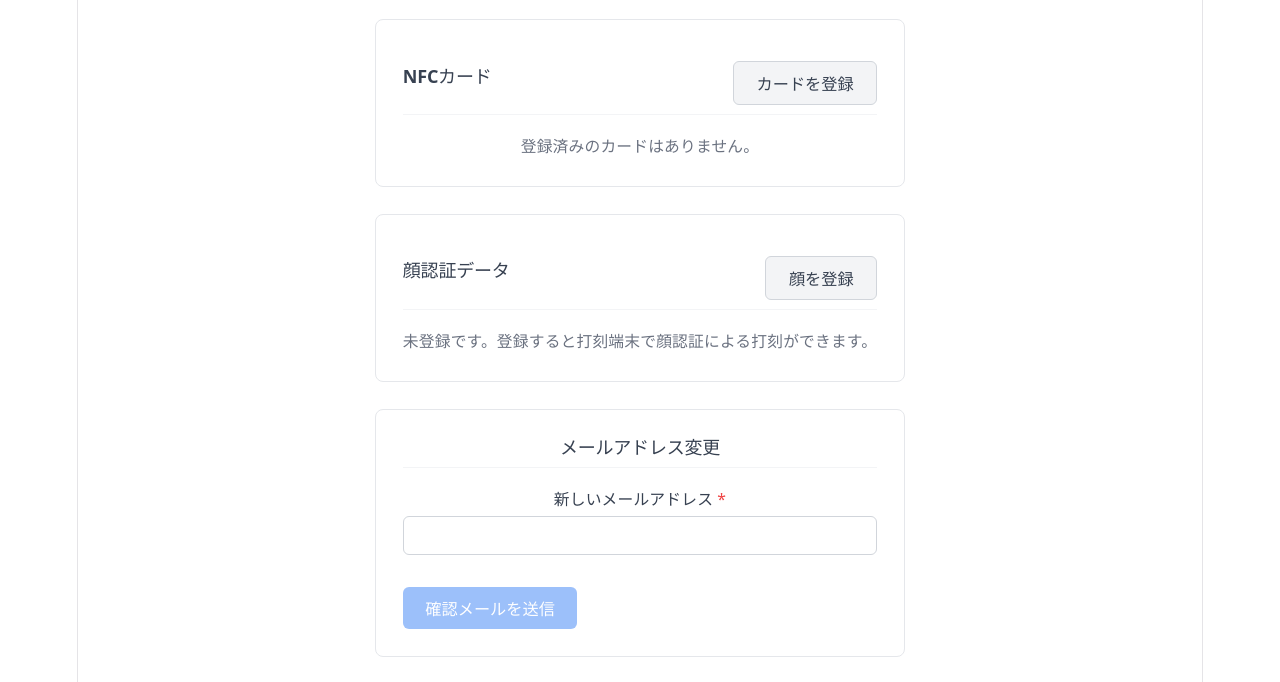
Test: MyProfilePage › メール変更確認メール送信が成功する
The image size is (1280, 682).
(page scrolled)
Type "newemail@example.com" into the field labelled "新しいメールアドレス *" at [640, 536], box [403, 516, 877, 556]
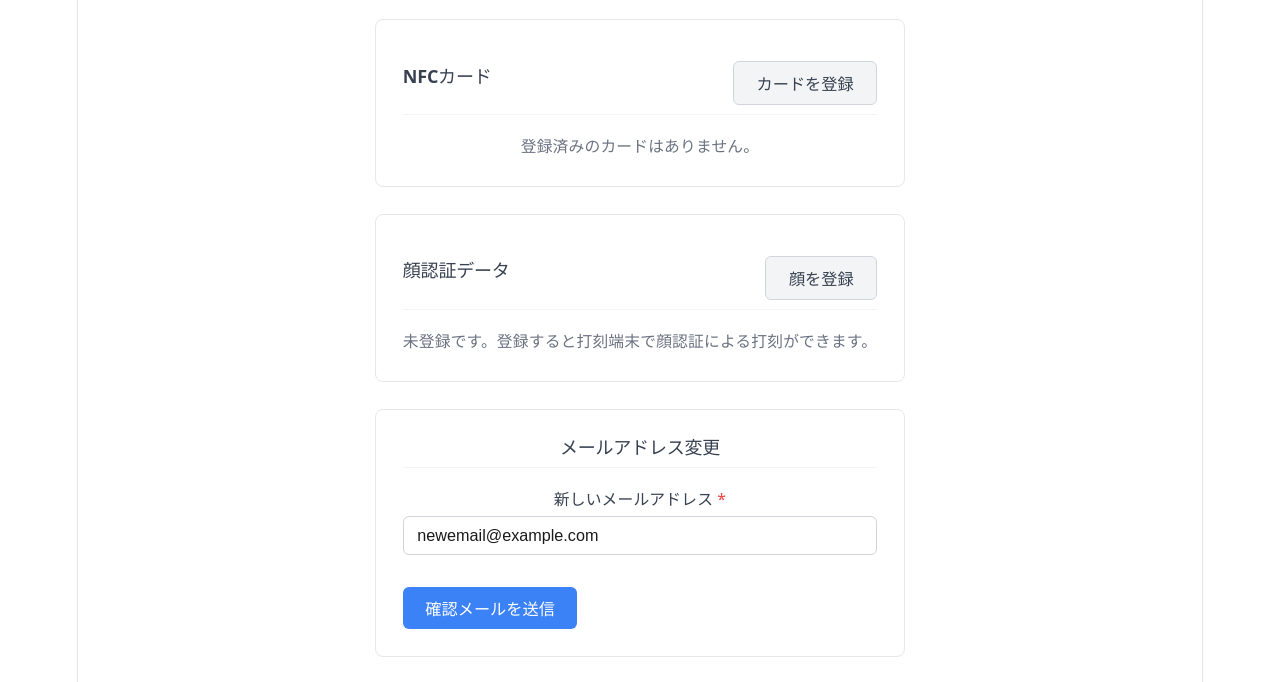
Click the button "確認メールを送信" at [490, 608], box [403, 587, 577, 629]
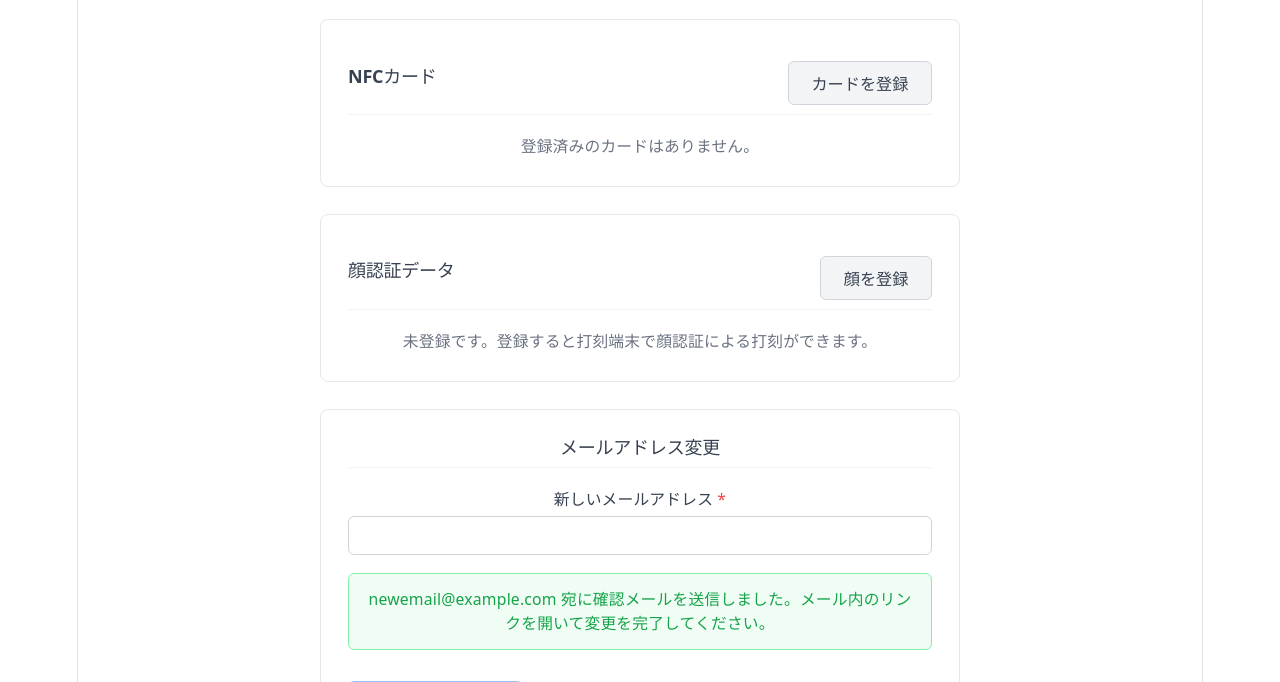
Expected: the message shows "確認メールを送信しました", [368, 588, 911, 634]
